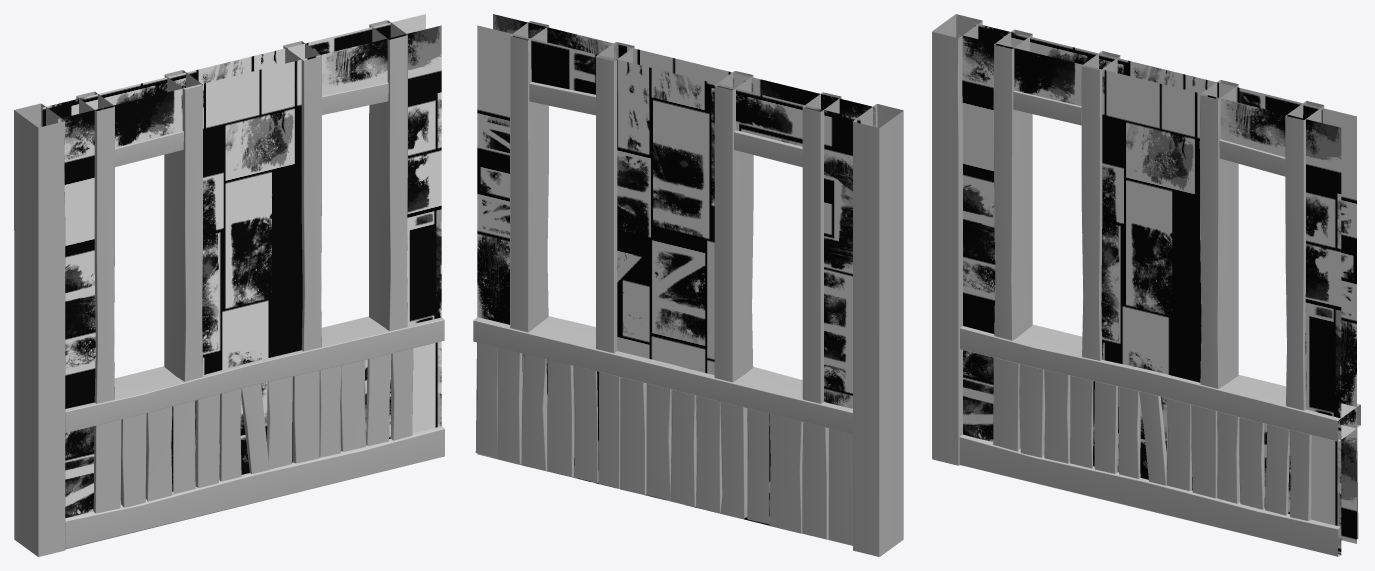
Rendered from SM_wall01_Wall_005.fbx.
3 renders of one model, left to right at view 1: azimuth 30°, elevation 25°; view 2: azimuth 150°, elevation 25°; view 3: azimuth 330°, elevation 25°, orthographic.
Parts seen in each view (by area): view 1: SM_wall01_Wall_005_LOD0; view 2: SM_wall01_Wall_005_LOD0; view 3: SM_wall01_Wall_005_LOD0.
Boxes of the visible parts, bbox=[...] form: SM_wall01_Wall_005_LOD0: bbox=[14, 14, 444, 556]; SM_wall01_Wall_005_LOD0: bbox=[473, 14, 903, 556]; SM_wall01_Wall_005_LOD0: bbox=[932, 14, 1360, 556].
Size of the model in its own units: 300 by 31.03 by 303.
